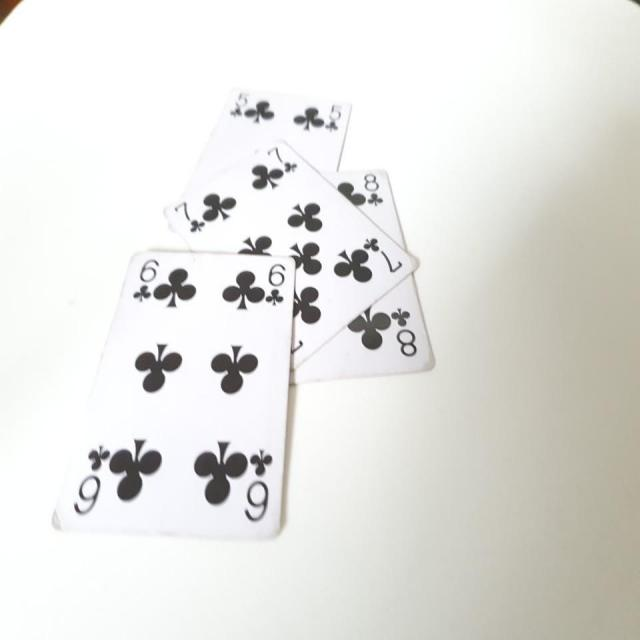5 Trefoils: (185, 84, 356, 178)
6 Trefoils: (51, 250, 298, 536)
7 Trefoils: (163, 136, 422, 371)
8 Trefoils: (281, 165, 435, 386)
